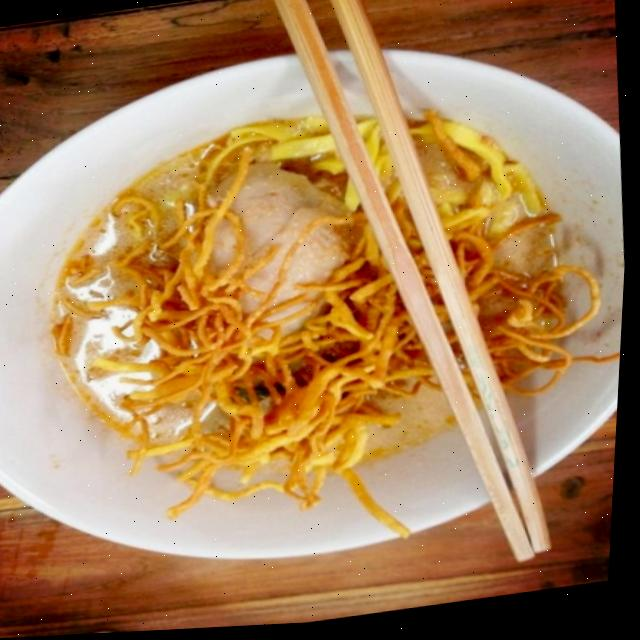面条主食: (5, 38, 625, 595)
